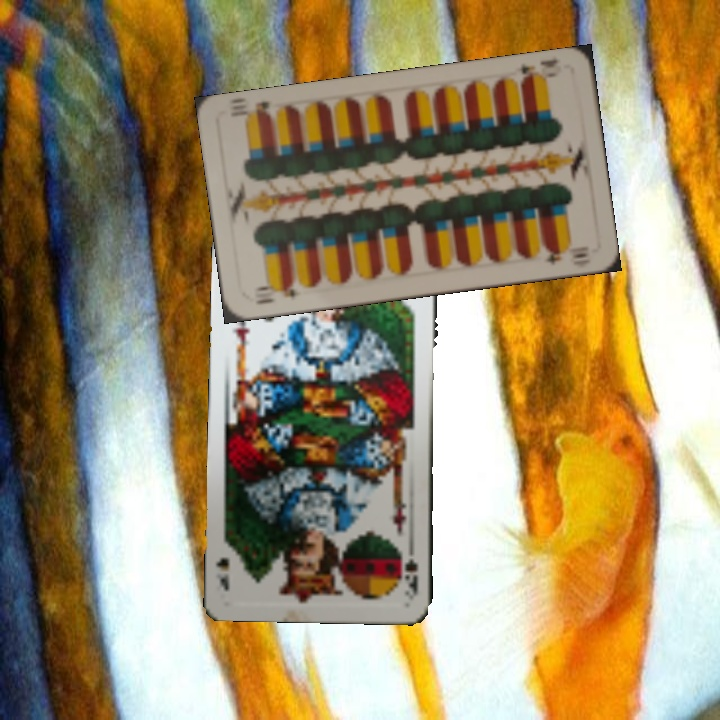E10: (516, 55, 565, 88), (249, 278, 299, 307)
SK: (397, 539, 421, 599)
